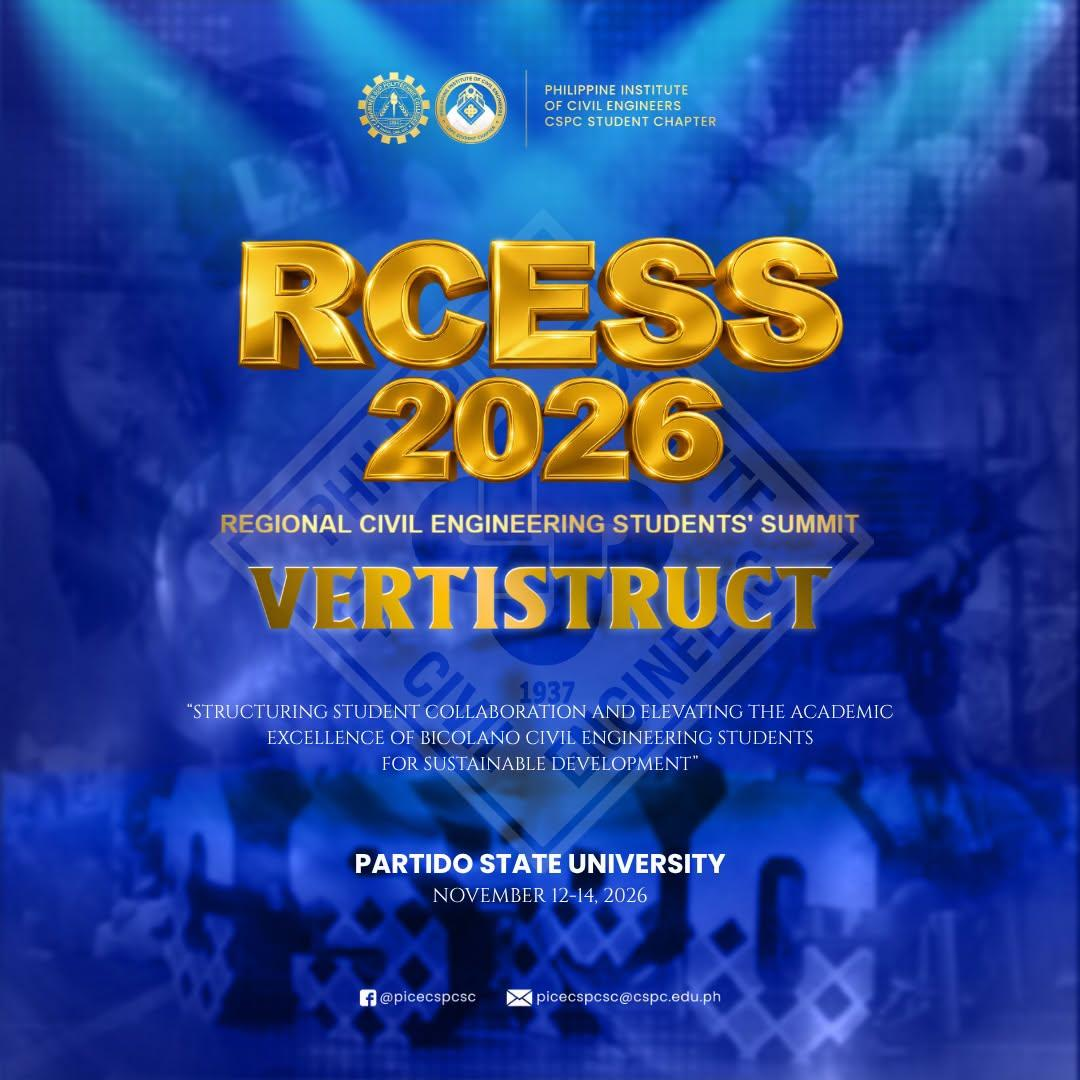embellishment: (504, 985, 537, 1009), (356, 987, 379, 1007)
logo: (352, 65, 437, 149), (433, 66, 512, 151)
text: (214, 230, 872, 639), (180, 696, 907, 776), (349, 846, 734, 907), (538, 77, 723, 136), (536, 988, 725, 1007), (378, 987, 480, 1007)
